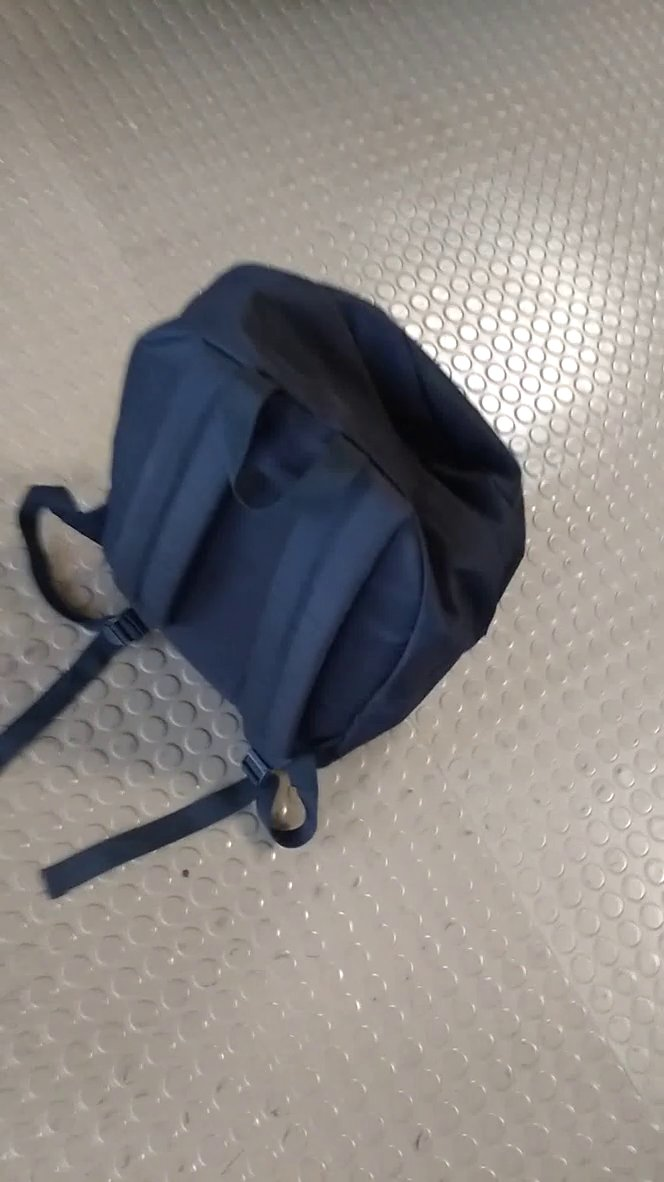bag: (2, 236, 534, 911)
